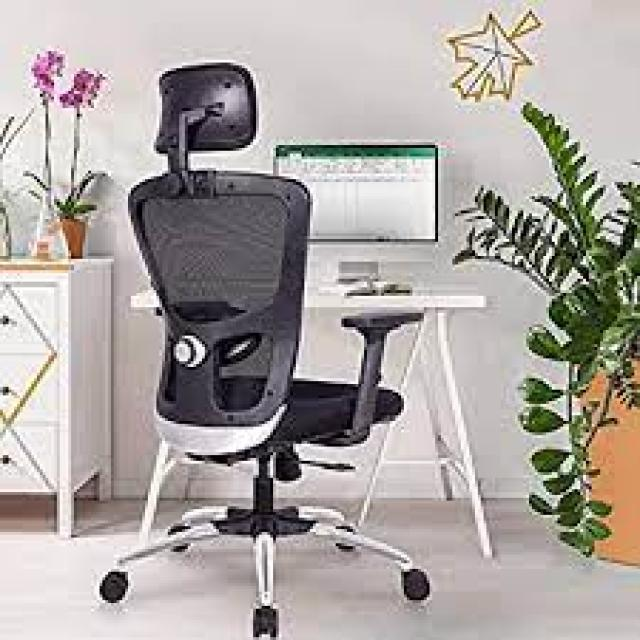chair: (61, 52, 465, 640)
